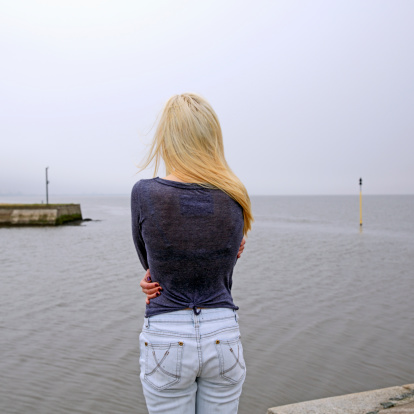em pe: (116, 82, 257, 414)
